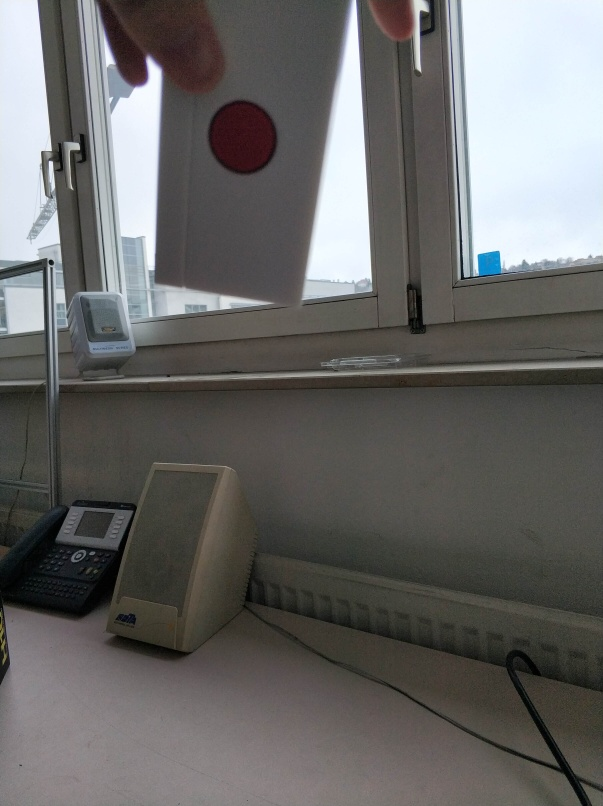white+white+red: (151, 1, 353, 309)
